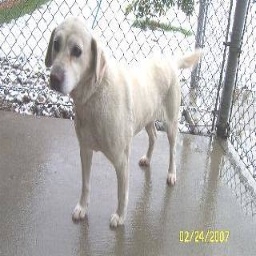dog: (40, 17, 207, 235)
